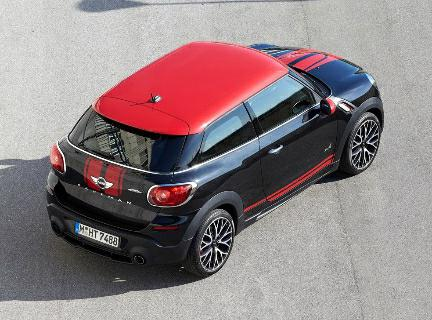MINI-JCWPACEMAN: (37, 44, 379, 273)
